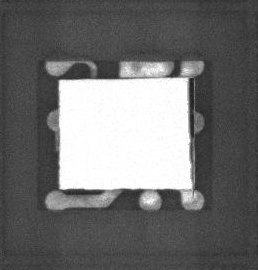DIE_BROKEN: (184, 75, 195, 189)
